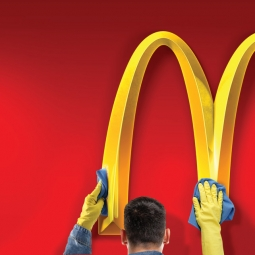mcdonalds: (97, 30, 253, 232)
